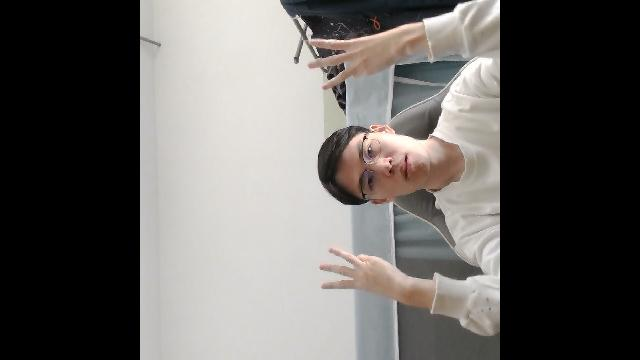three: (304, 25, 414, 90), (316, 246, 406, 301)
